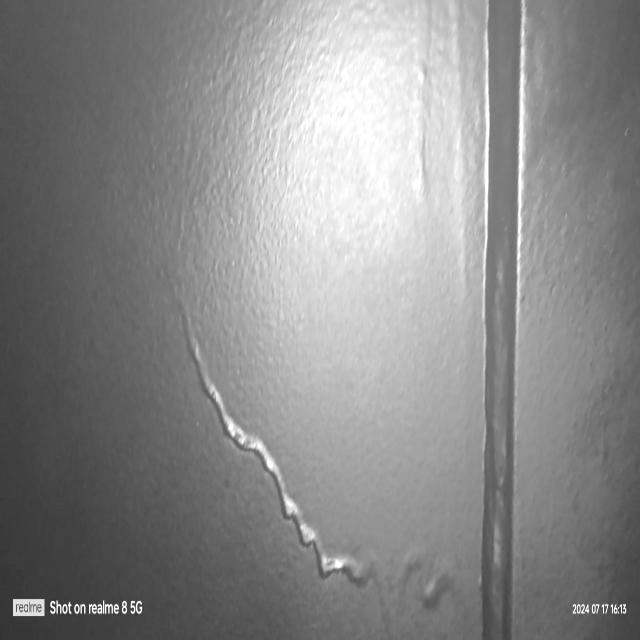paint drips: (168, 277, 472, 640)
